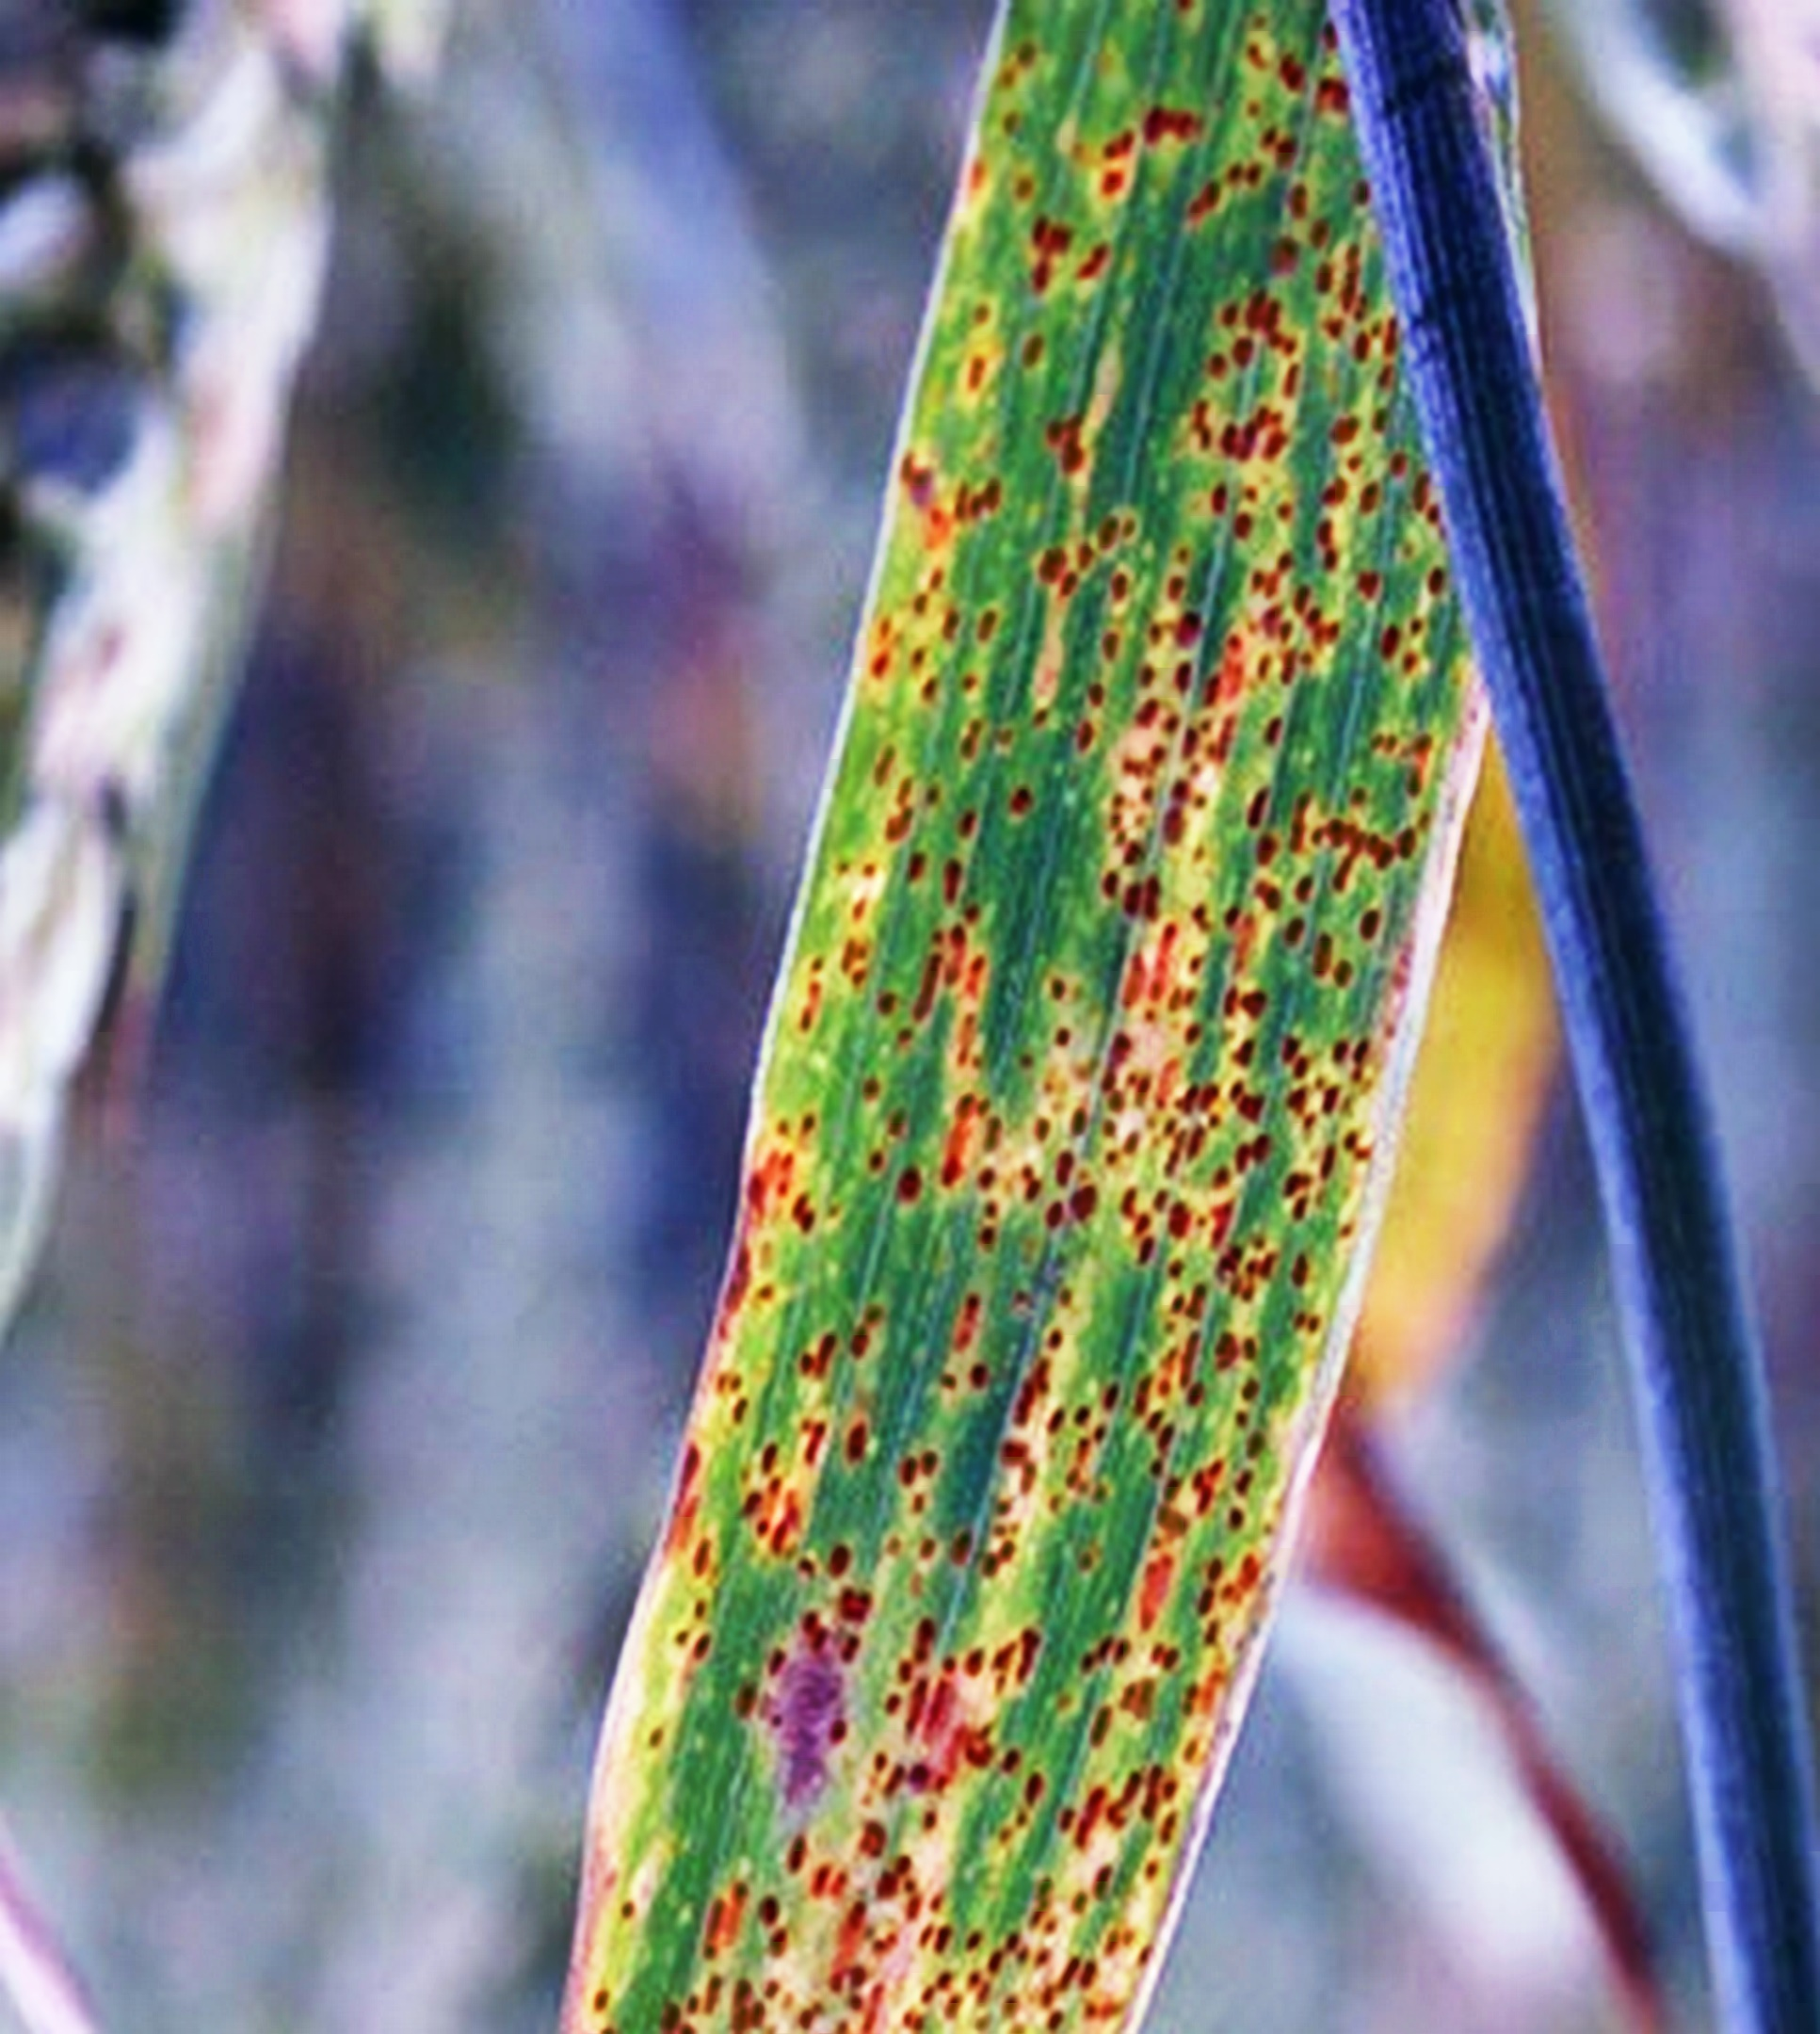Leaf Rust: (620, 160, 1456, 1965)
